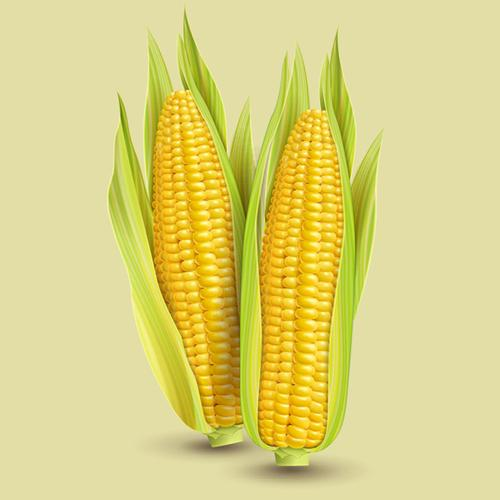corn: (139, 51, 259, 452), (244, 75, 359, 464)
